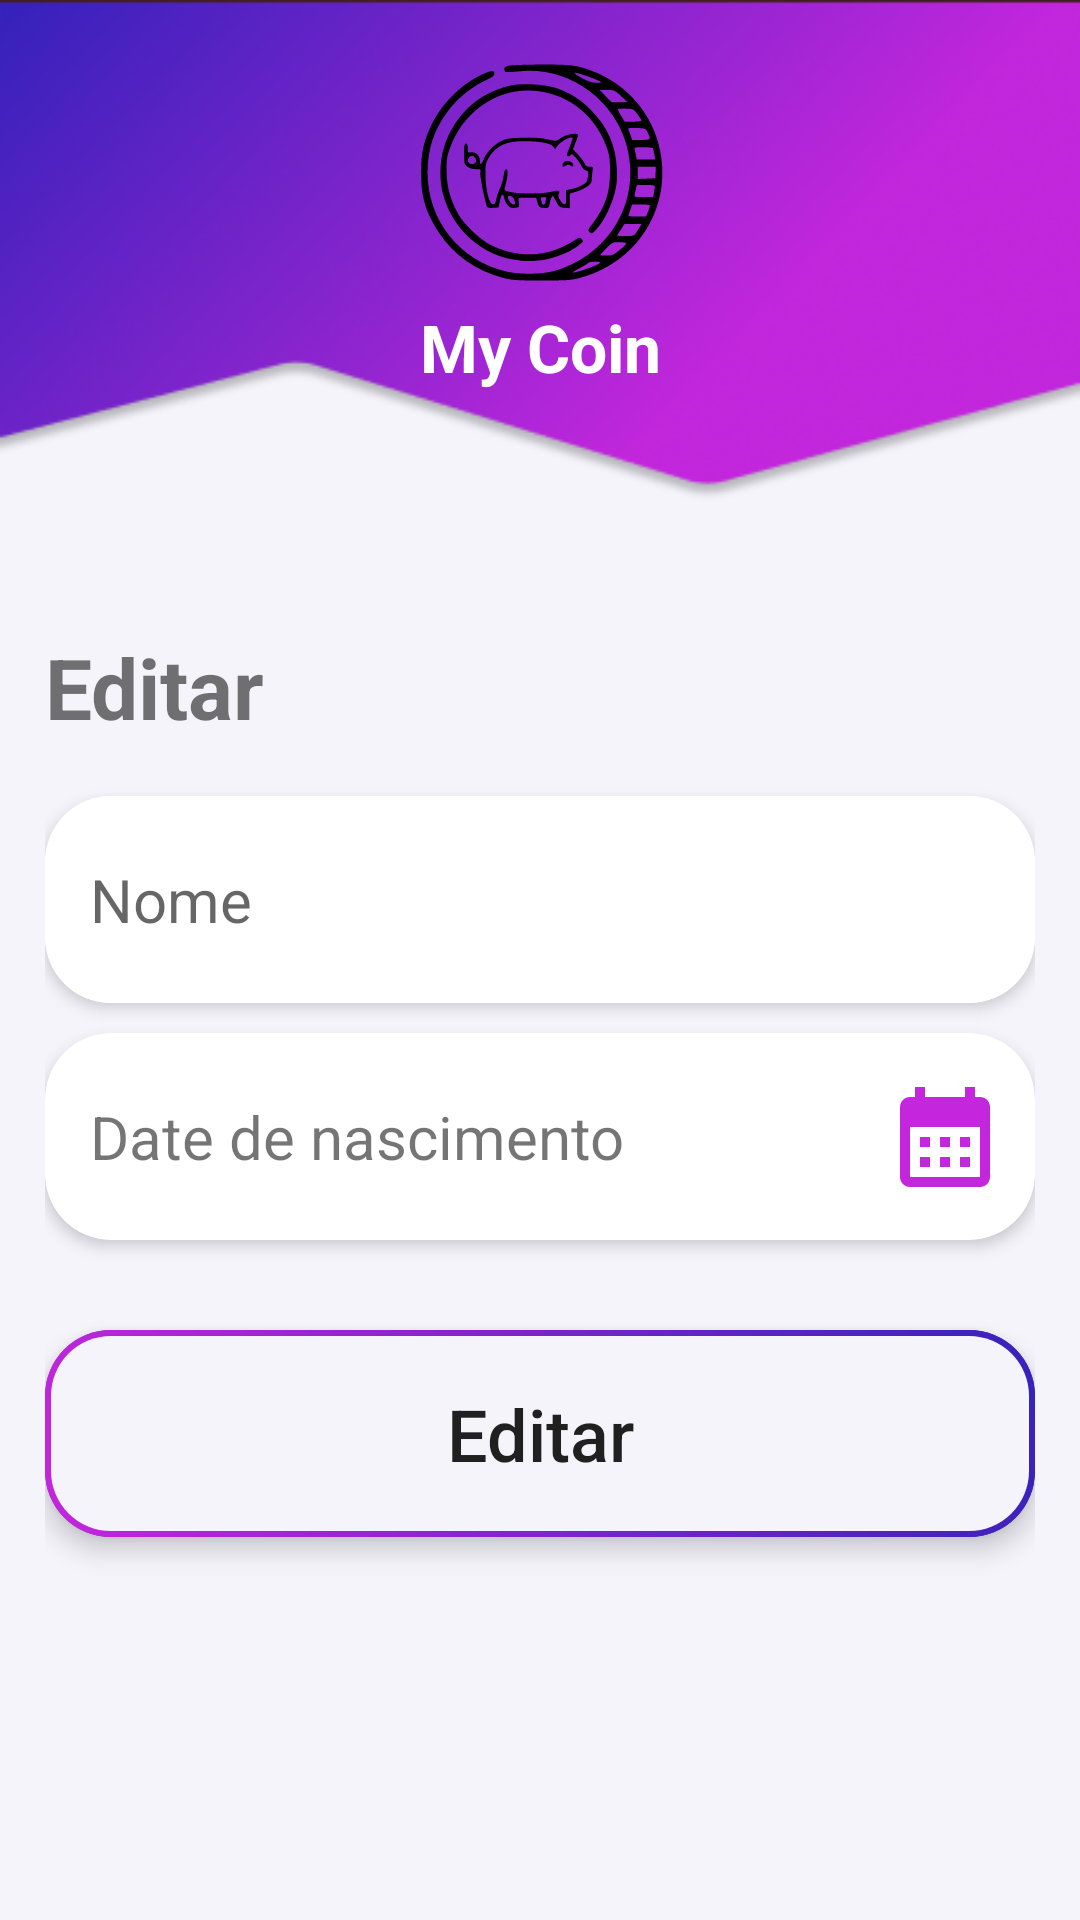

Screen size 1080px×1920px. Icon name, then its box in pixels as (x1, y1, x2, y2):
calendar: (900, 1087, 990, 1187)
